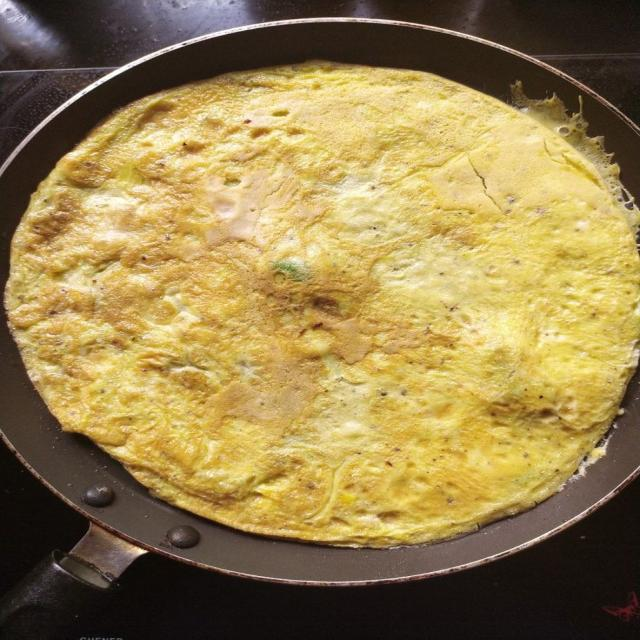omelette: (7, 62, 639, 546)
